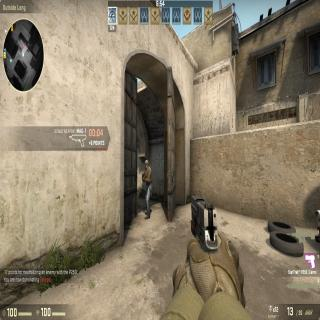T-Body: (142, 159, 152, 219)
T-Head: (144, 159, 149, 169)
